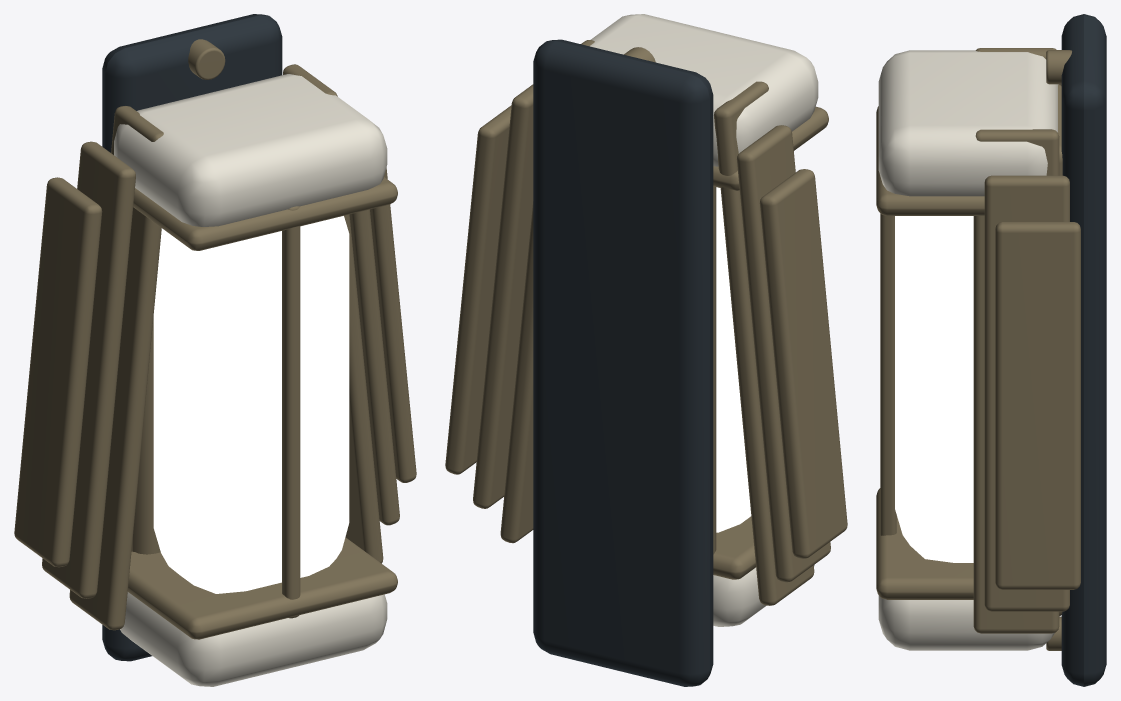
Rendered from wall_light_decorative.glb.
3 views of the same model, side by side, from view 1: azimuth 30°, elevation 25°; view 2: azimuth 150°, elevation 25°; view 3: azimuth 270°, elevation 25° (orthographic).
Parts seen in each view (by area): view 1: Wall light decorative; view 2: Wall light decorative; view 3: Wall light decorative.
Part boxes in pixels (x1,y1,x2,y2): Wall light decorative: (14,14,416,686); Wall light decorative: (445,14,847,686); Wall light decorative: (876,14,1106,686).
Bounding box in the file's own units: 0.4612 × 0.74 × 0.2555.
